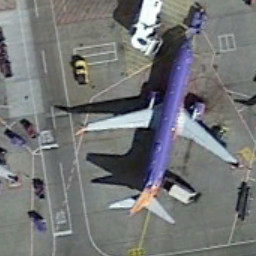Airplane: (68, 27, 246, 231)
